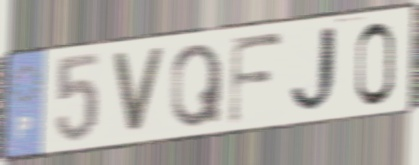0: (354, 18, 397, 109)
5: (53, 49, 101, 148)
F: (225, 30, 286, 129)
J: (288, 22, 345, 118)
Q: (169, 40, 225, 131)
V: (109, 46, 168, 137)
